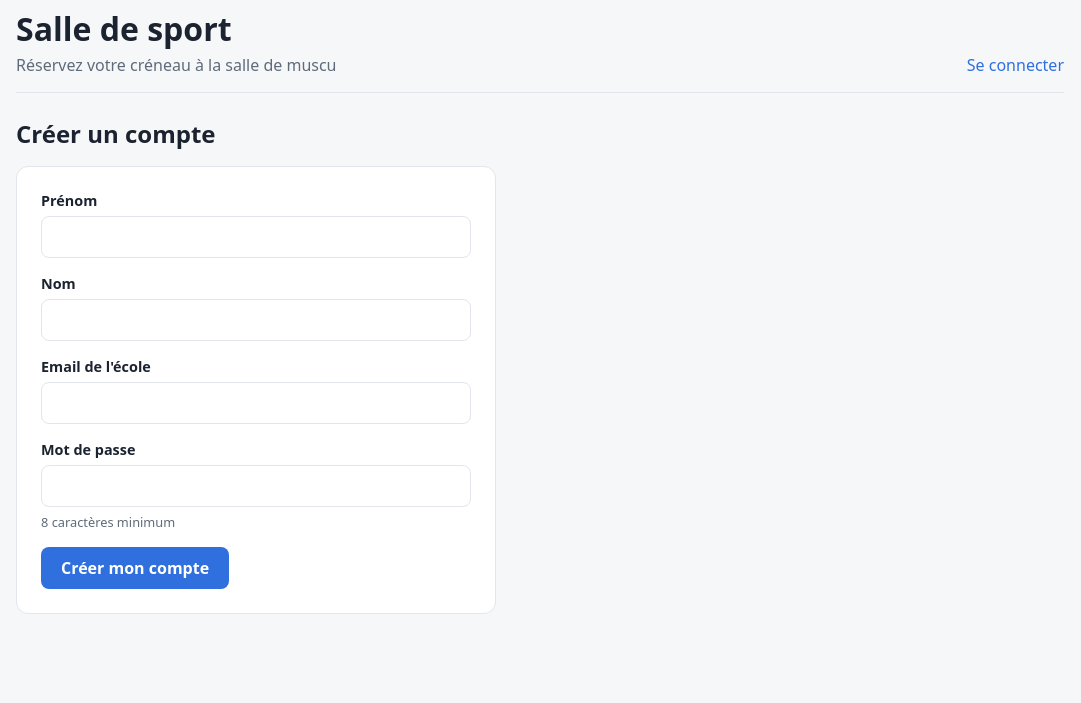
Test case: RegisterPage › shows the message of the API when the email is already used
Type "Chloé" into the field labelled "Prénom" at coordinates (256, 237), box [41,216,471,258]
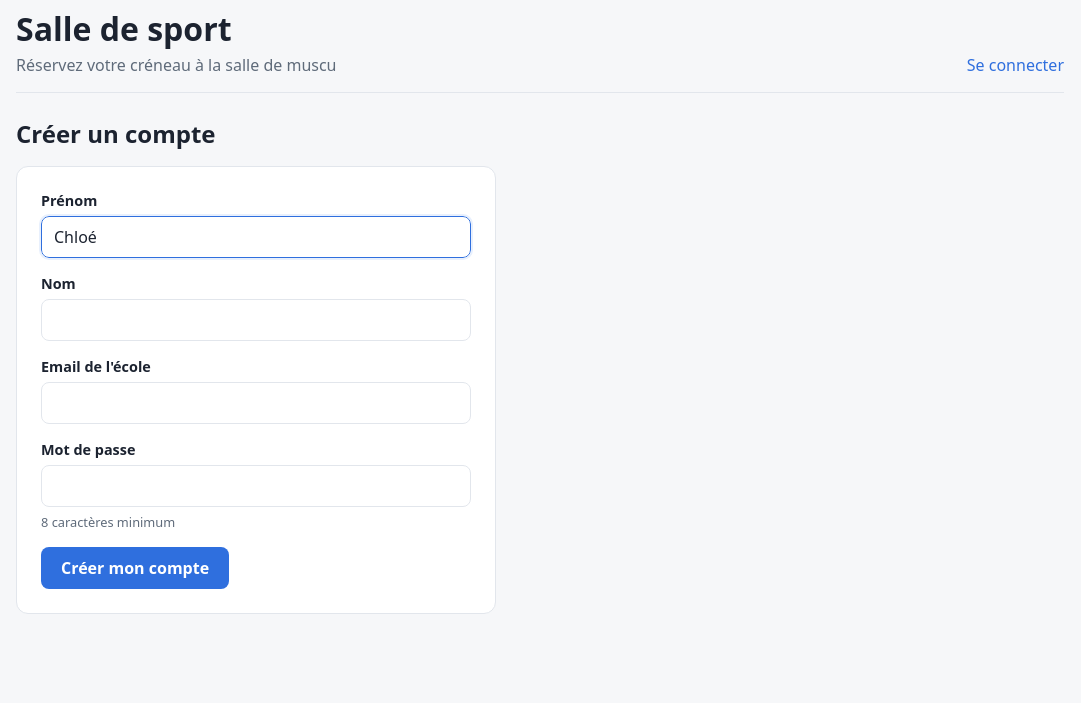
Type "Petit" into the field labelled "Nom" at coordinates (256, 320), box [41,299,471,341]
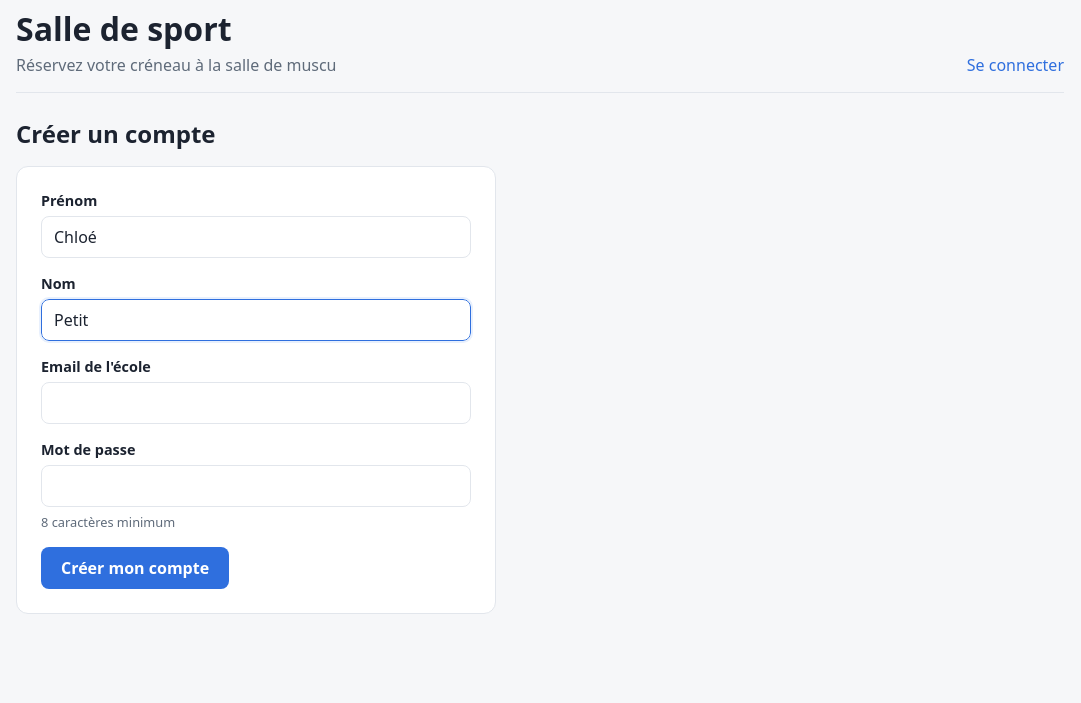
Type "chloe.petit@castelmont.fr" into the field labelled "Email de l'école" at coordinates (256, 403), box [41,382,471,424]
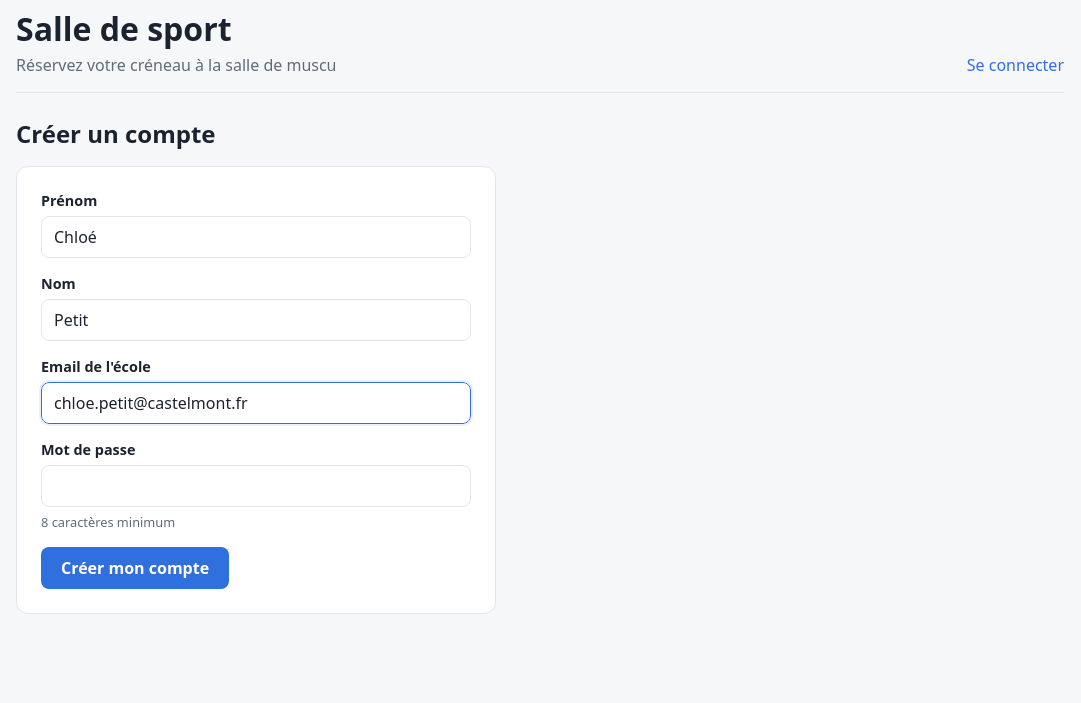
Type "correct-horse" into the password field labelled "Mot de passe" at coordinates (256, 486), box [41,465,471,507]
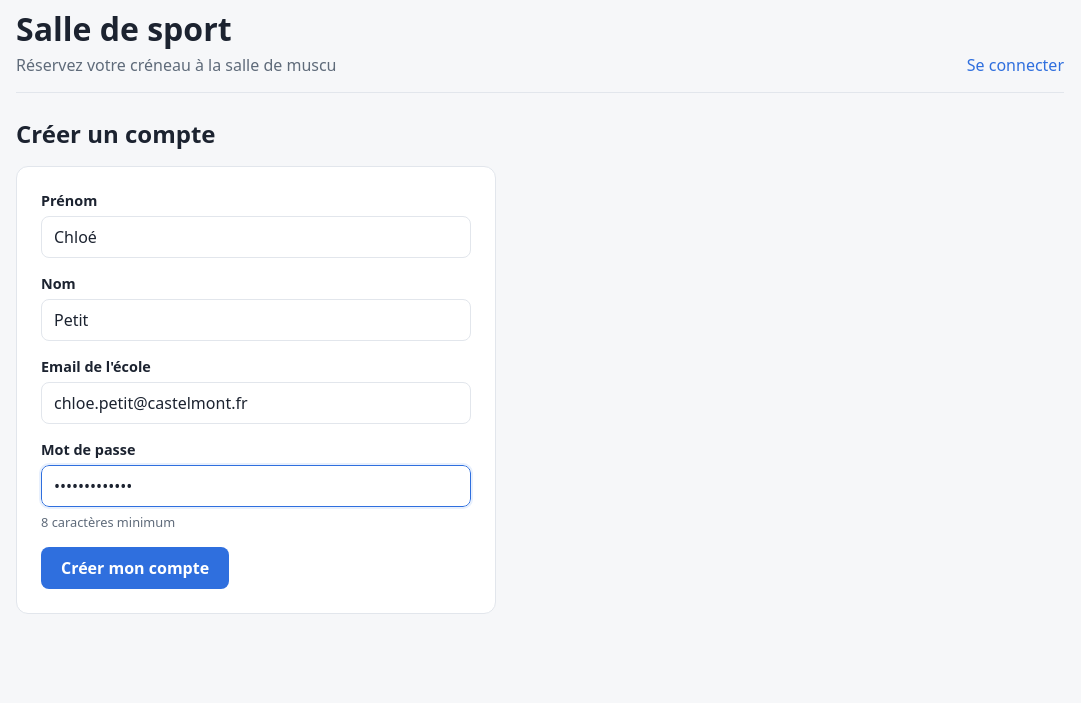
Click the button "Créer mon compte" at coordinates (135, 568), box [41,547,229,589]
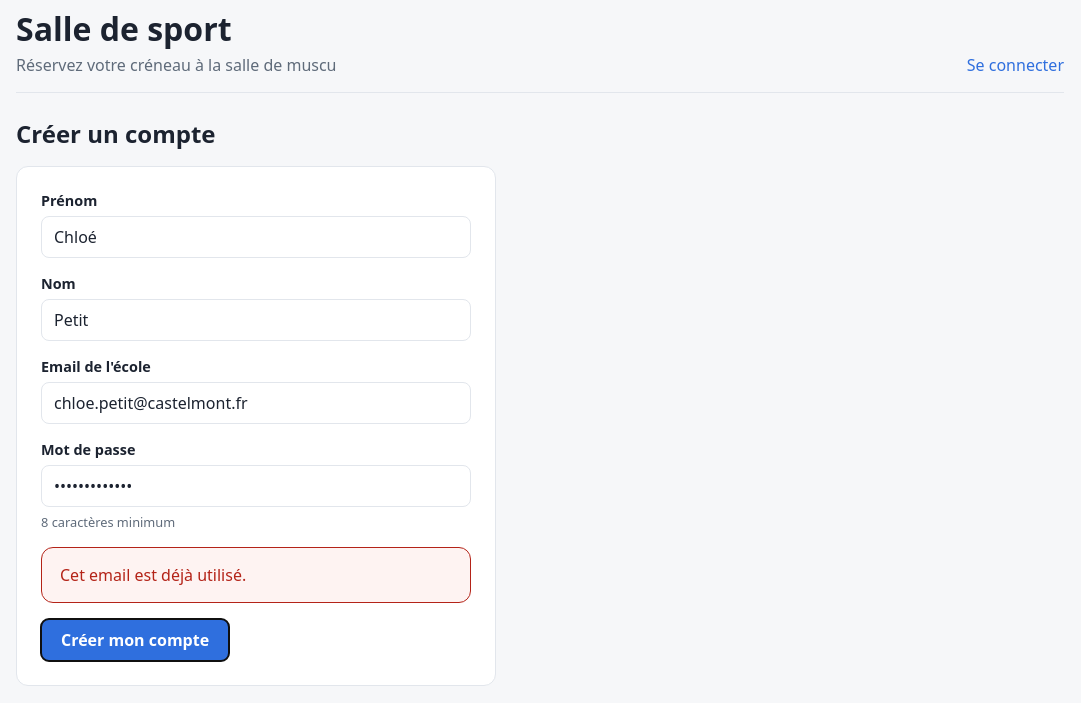
expect the heading "Créer un compte" is shown: met, box [16,117,216,150]
expect the message reads "Cet email est déjà utilisé.": met, box [60,564,246,586]
